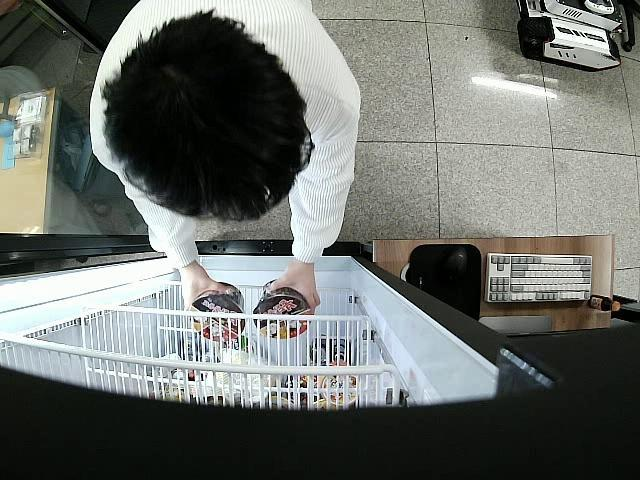07_buldak_L: (254, 282, 311, 340), (190, 280, 244, 341)
